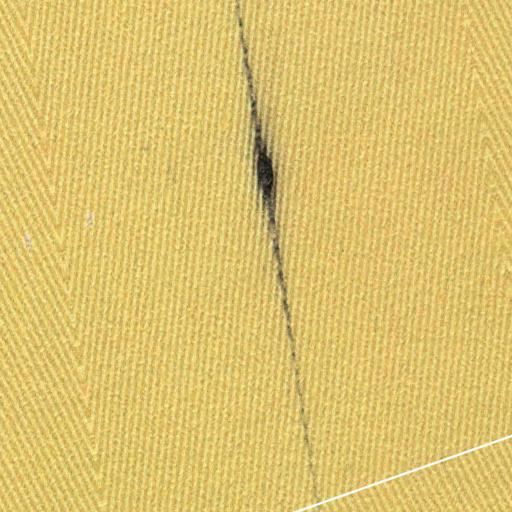stain: (215, 0, 331, 512)
